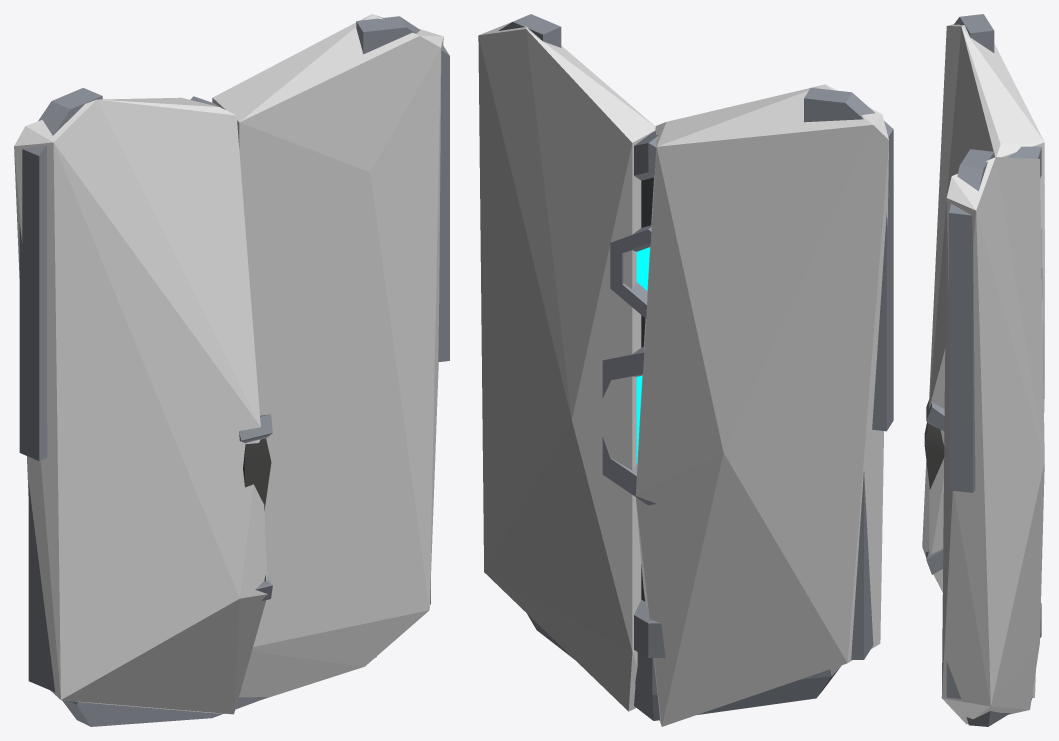
The model's file is SM_Wep_Shield_01.fbx.
3 renders of one model, left to right at view 1: azimuth 30°, elevation 25°; view 2: azimuth 150°, elevation 25°; view 3: azimuth 270°, elevation 25°, orthographic. The views are drawn at different scales.
Parts seen in each view (by area): view 1: SM_Wep_Shield_01_ConvexHulls, SM_Wep_Shield_01_LOD0; view 2: SM_Wep_Shield_01_ConvexHulls, SM_Wep_Shield_01_LOD0; view 3: SM_Wep_Shield_01_ConvexHulls, SM_Wep_Shield_01_LOD0.
Boxes of the visible parts, x1,y1,x2,y2 form: SM_Wep_Shield_01_ConvexHulls: (14, 14, 443, 714); SM_Wep_Shield_01_LOD0: (19, 16, 449, 726); SM_Wep_Shield_01_ConvexHulls: (478, 22, 889, 726); SM_Wep_Shield_01_LOD0: (498, 14, 893, 720); SM_Wep_Shield_01_ConvexHulls: (922, 24, 1044, 724); SM_Wep_Shield_01_LOD0: (924, 14, 1042, 726).
Bounding box in the file's own units: 12.35 × 45.45 × 68.18.
1 material, 1 textured.
